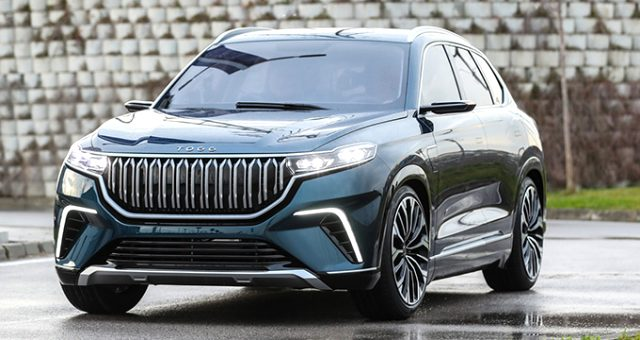car: (58, 19, 553, 311)
